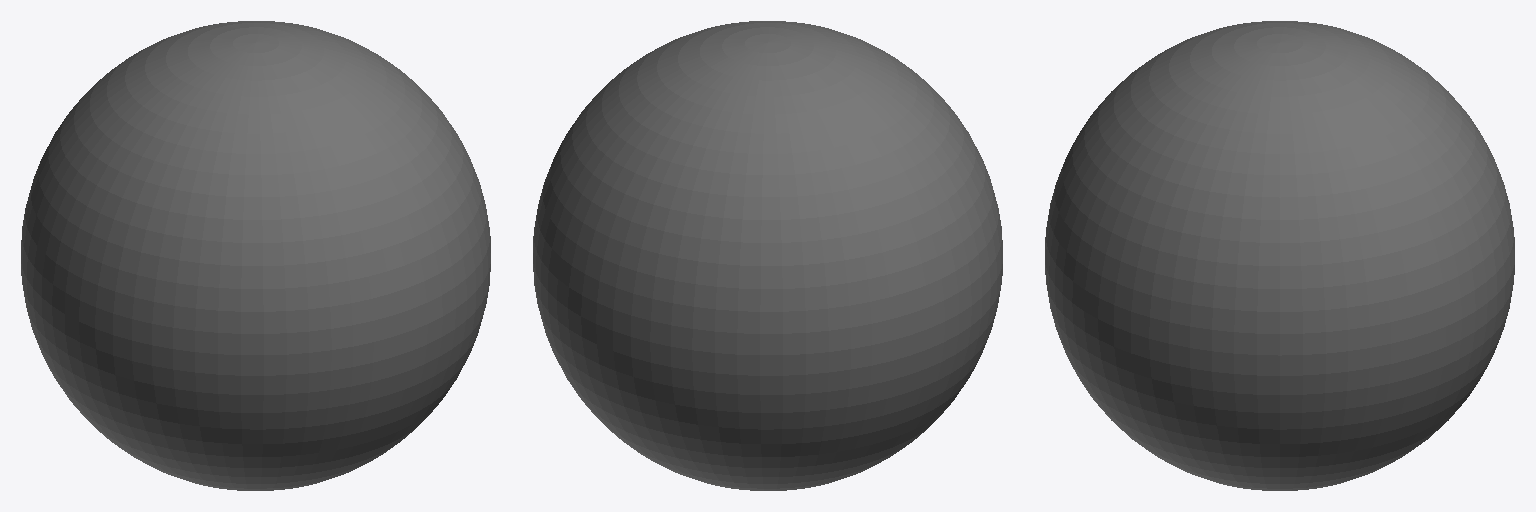
Rendered from planet.obj.
3 views of the same model, side by side, from view 1: azimuth 30°, elevation 25°; view 2: azimuth 150°, elevation 25°; view 3: azimuth 270°, elevation 25° (orthographic).
Parts seen in each view (by area): view 1: Mesh; view 2: Mesh; view 3: Mesh.
Part boxes in pixels (left/top/right/bottom): Mesh: left=21, top=21, right=490, bottom=490; Mesh: left=533, top=21, right=1002, bottom=490; Mesh: left=1045, top=21, right=1514, bottom=490.
Bounding box in the file's own units: 2 × 2 × 2.